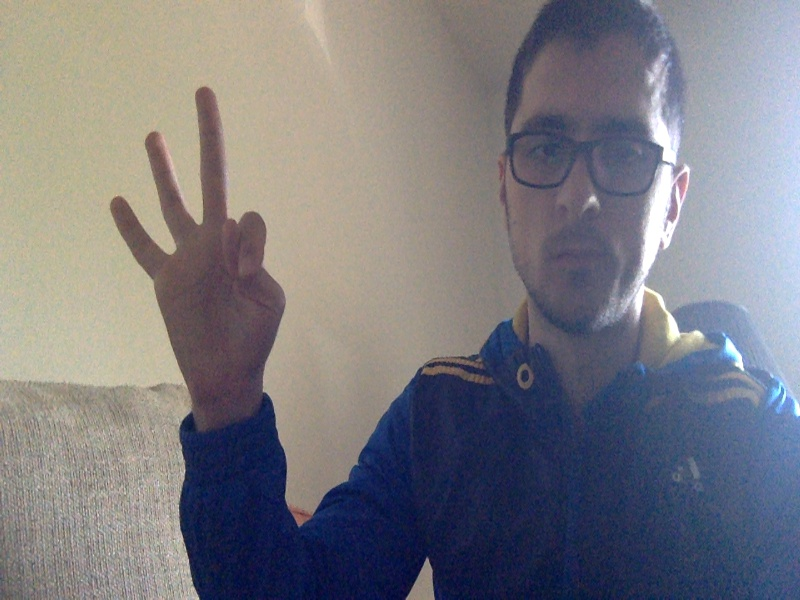3-hand: (110, 82, 285, 396)
